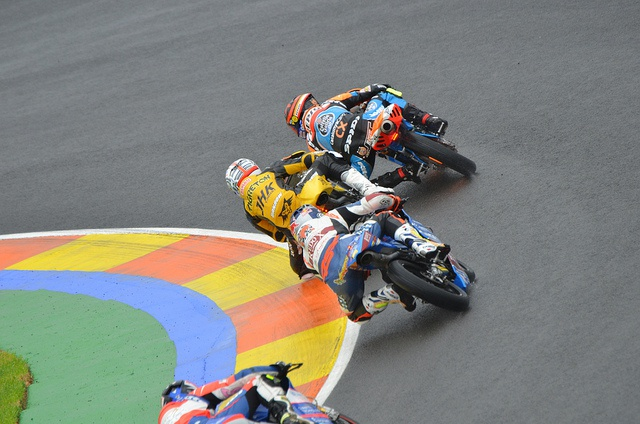non-vehicle: (349, 194, 475, 312), (353, 82, 477, 178), (261, 360, 358, 423)
